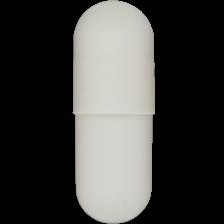35356-807: (0, 0, 224, 224)
